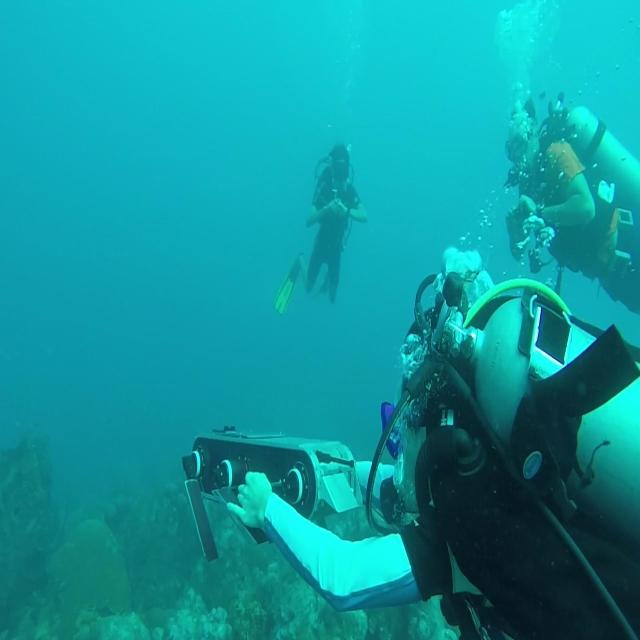human: (222, 274, 639, 638), (503, 91, 639, 315), (274, 141, 367, 315)
